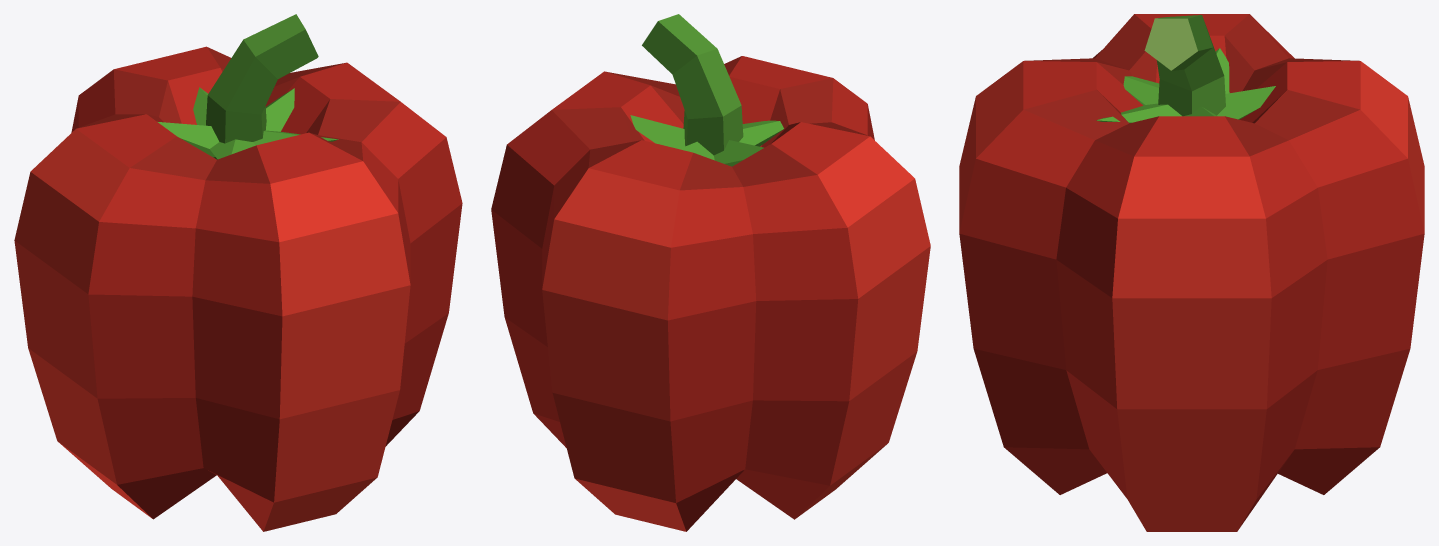
Rendered from FMS_Veg_Pepper.fbx.
3 renders of one model, left to right at view 1: azimuth 30°, elevation 25°; view 2: azimuth 150°, elevation 25°; view 3: azimuth 270°, elevation 25°, orthographic. The views are drawn at different scales.
Visible parts, largest first — view 1: item_produce_pepper; view 2: item_produce_pepper; view 3: item_produce_pepper.
Part boxes in pixels (box(x1,y1,x2,y2)): item_produce_pepper: box(14, 14, 462, 531); item_produce_pepper: box(491, 14, 930, 531); item_produce_pepper: box(959, 14, 1424, 531).
Bounding box in the file's own units: 0.0901 × 0.104 × 0.0901.
Materials: 1 (1 with a texture image).
